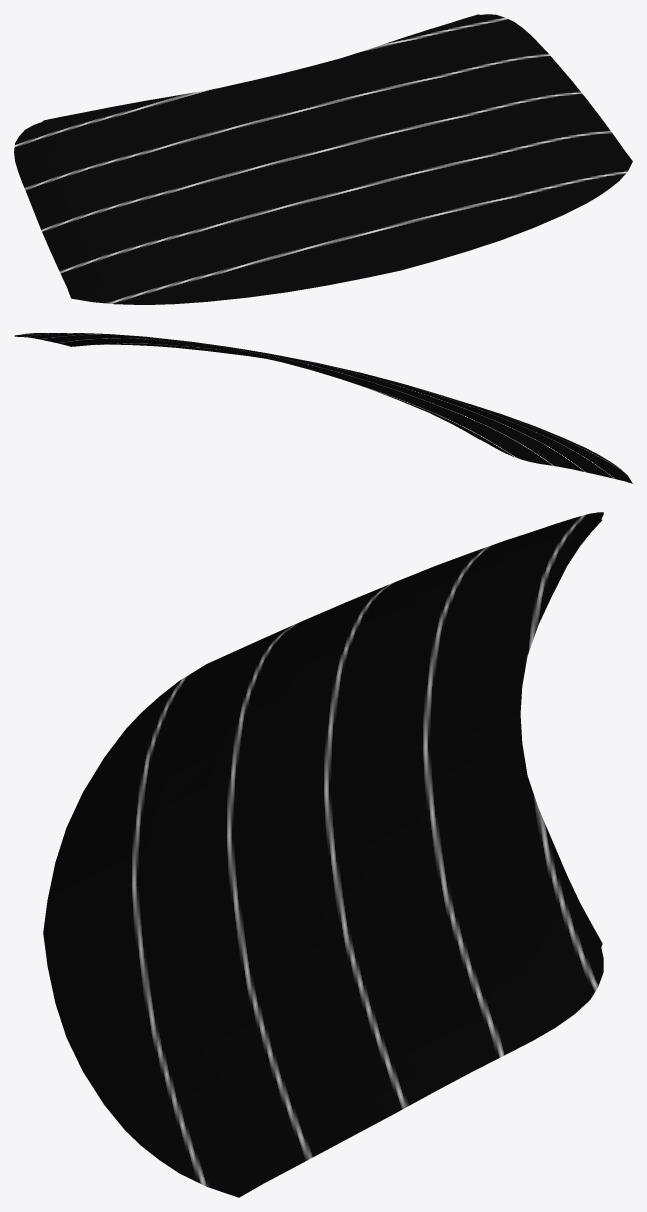
The model's file is defogger.glb.
The picture shows the model from 3 angles, top to bottom: view 1: azimuth 30°, elevation 25°; view 2: azimuth 150°, elevation 25°; view 3: azimuth 270°, elevation 25°; orthographic projection. The views are drawn at different scales.
Visible parts, largest first — view 1: defogger; view 2: defogger; view 3: defogger.
Part boxes in pixels (x1=…): defogger: x1=14, y1=14, x2=632, y2=304; defogger: x1=14, y1=333, x2=632, y2=483; defogger: x1=43, y1=512, x2=603, y2=1197.
Size of the model in its own units: 1.14 by 0.2128 by 0.4941.
Materials: 1 (1 with a texture image).
